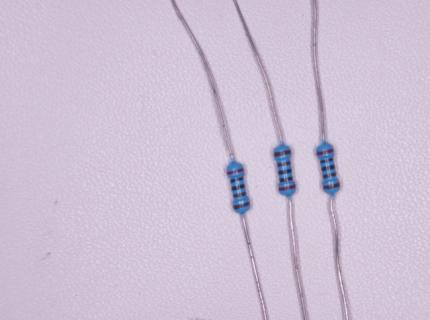Black band: (232, 184, 244, 191), (230, 177, 243, 183), (320, 158, 333, 164), (322, 165, 335, 171), (279, 169, 292, 174), (280, 177, 292, 182)
Brown band: (235, 201, 250, 210), (274, 150, 290, 157), (323, 183, 340, 189), (277, 161, 290, 167), (323, 173, 336, 179), (234, 192, 246, 197)
Red band: (226, 168, 244, 175), (279, 184, 295, 191), (317, 149, 333, 155)
